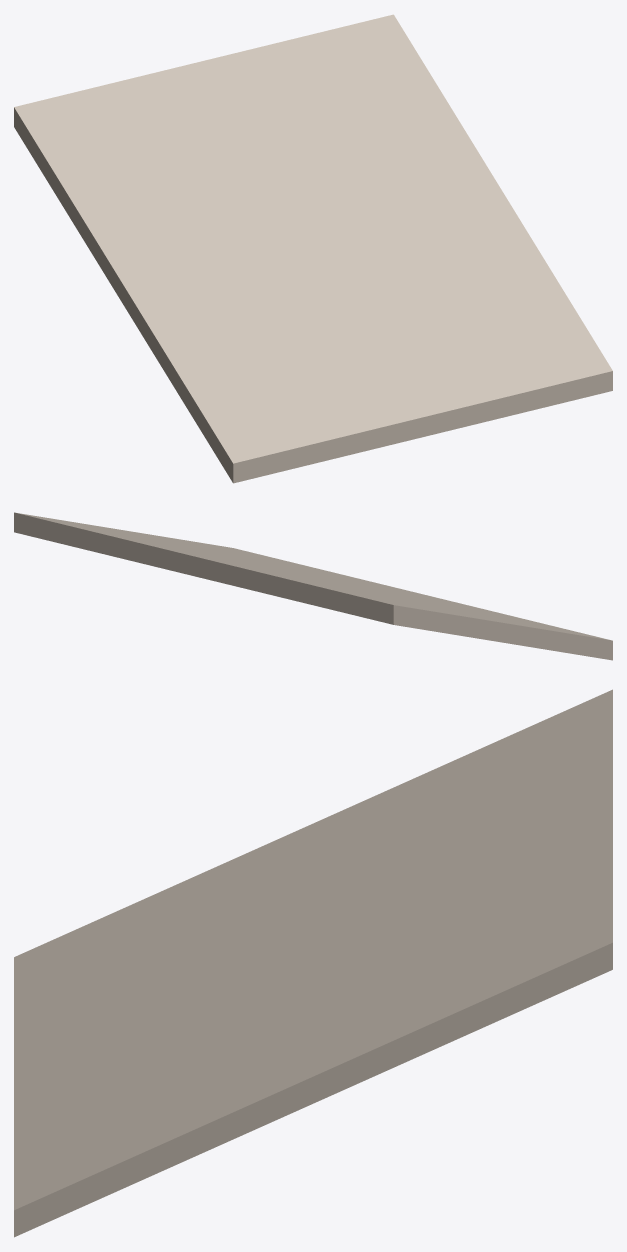
Rendered from SM_hiking_trail_03.glb.
3 renders of one model, top to bottom at view 1: azimuth 30°, elevation 25°; view 2: azimuth 150°, elevation 25°; view 3: azimuth 270°, elevation 25°, orthographic. The views are drawn at different scales.
Visible parts, largest first — view 1: SM_hiking_trail_03; view 2: SM_hiking_trail_03; view 3: SM_hiking_trail_03.
Boxes of the visible parts, <box> form: SM_hiking_trail_03: <box>14,14,612,483</box>; SM_hiking_trail_03: <box>14,512,612,660</box>; SM_hiking_trail_03: <box>14,689,612,1237</box>.
Bounding box in the file's own units: 2 × 1.09 × 2.
Materials: 1 (1 with a texture image).
